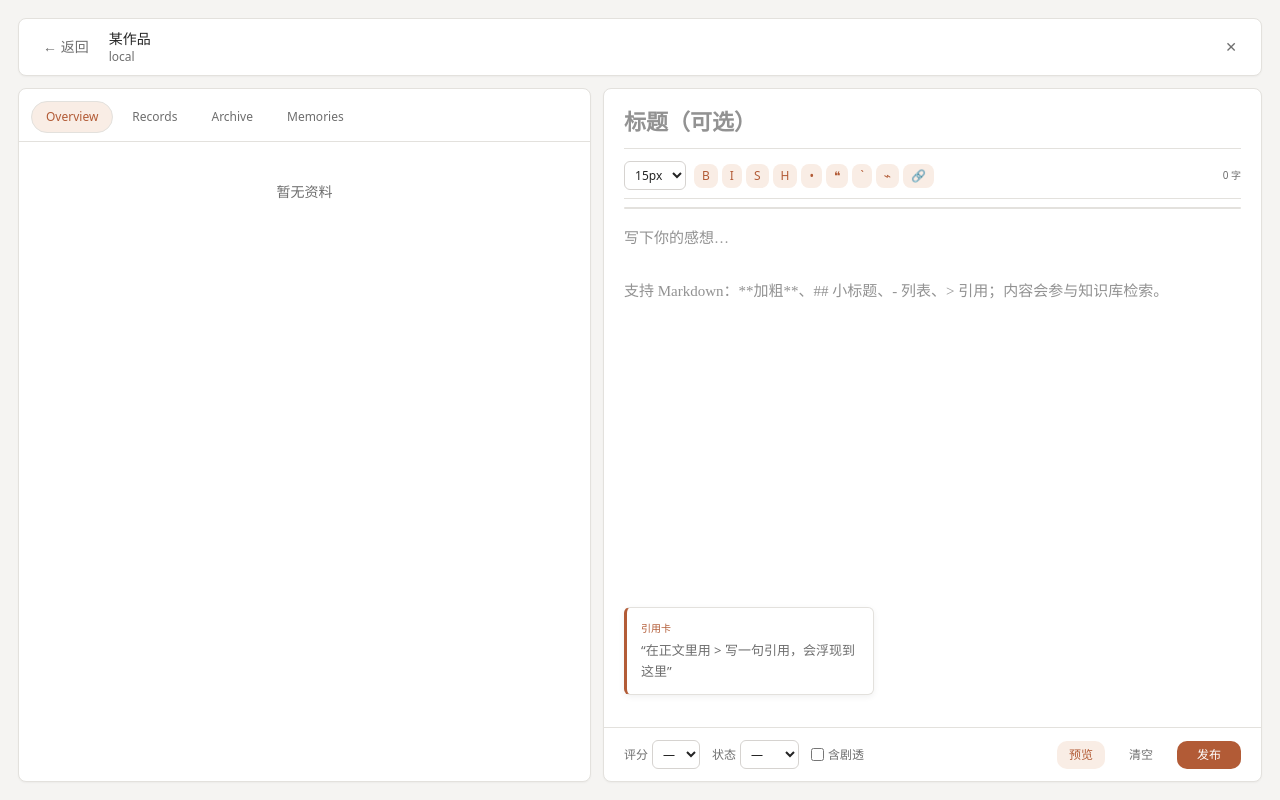
it: ReviewStudio 沉浸式书写 › 工具栏：加粗围绕选区插入 Markdown 语法
Type "这是重点" into the text box with placeholder "写下你的感想… 支持 Markdown：**加粗**、## 小标题、- 列表、> 引用；内容会参与知识库检索。".
click(932, 417); type("这是重点")  # box [624,225,1241,609]
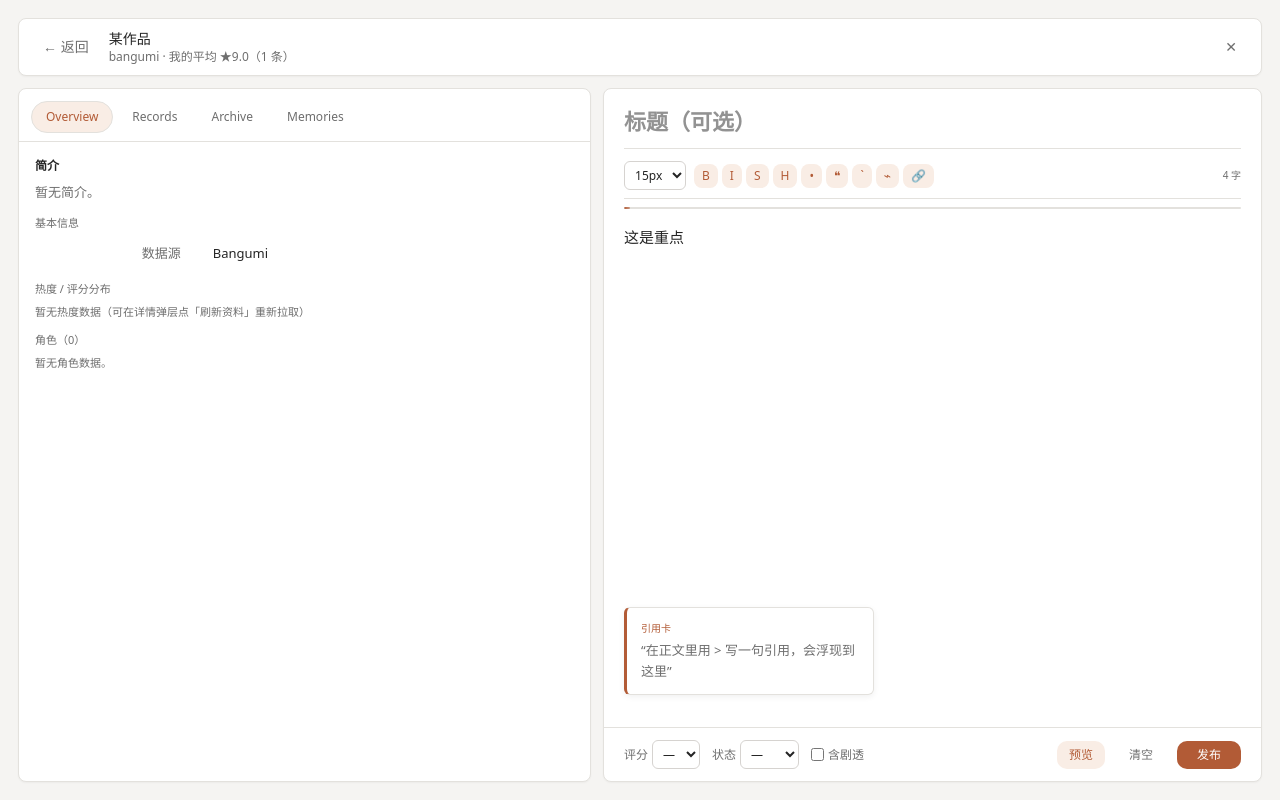
Click the button titled "加粗".
click(706, 176)  # box [694,164,718,188]
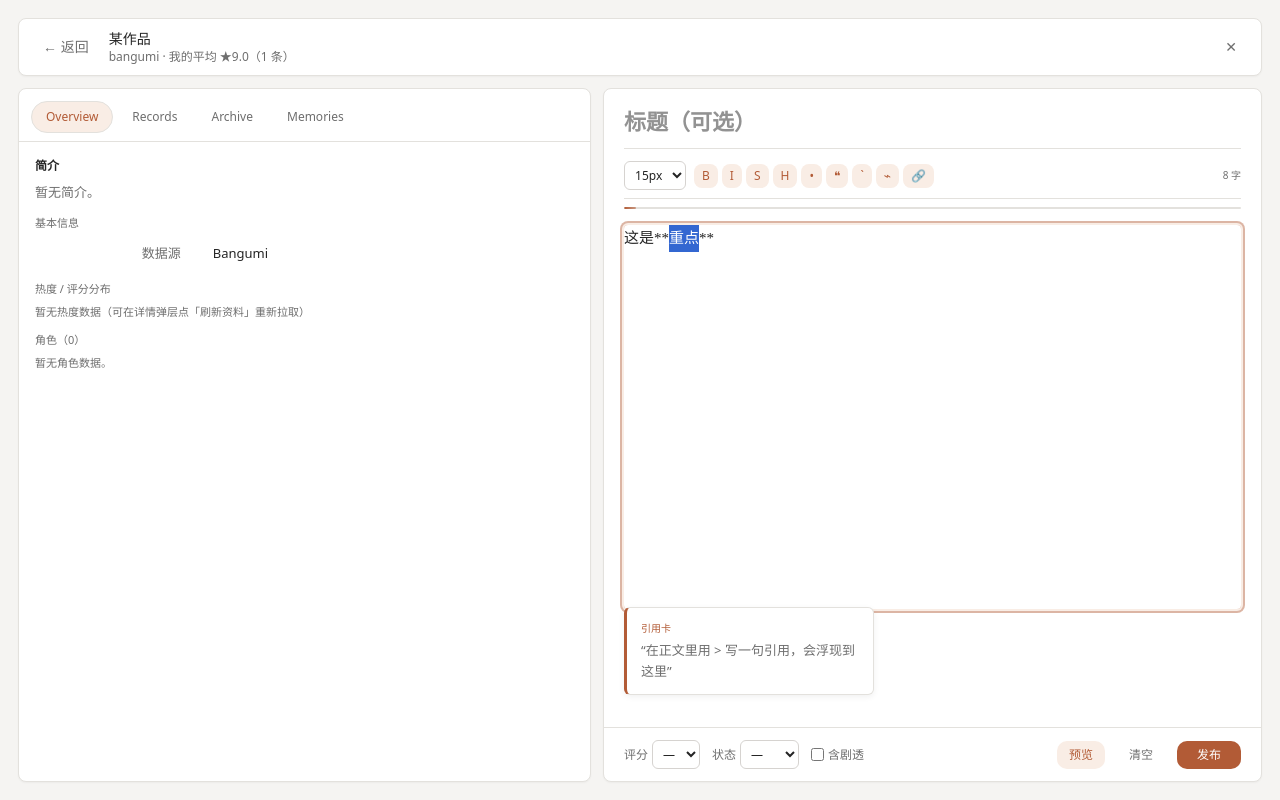
Expected: the text box holds "这是**重点**", [624,225,1241,609]
